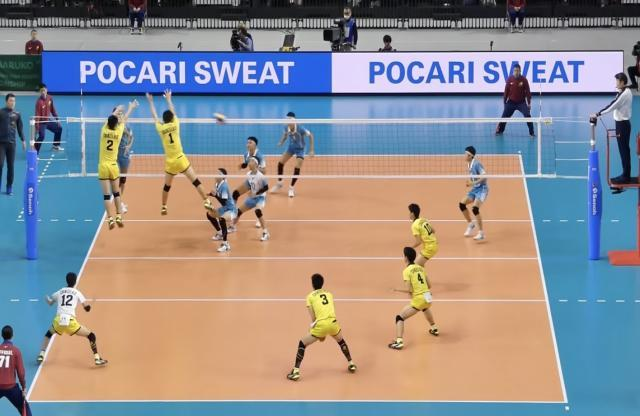block: (146, 90, 225, 233), (91, 98, 140, 230)
